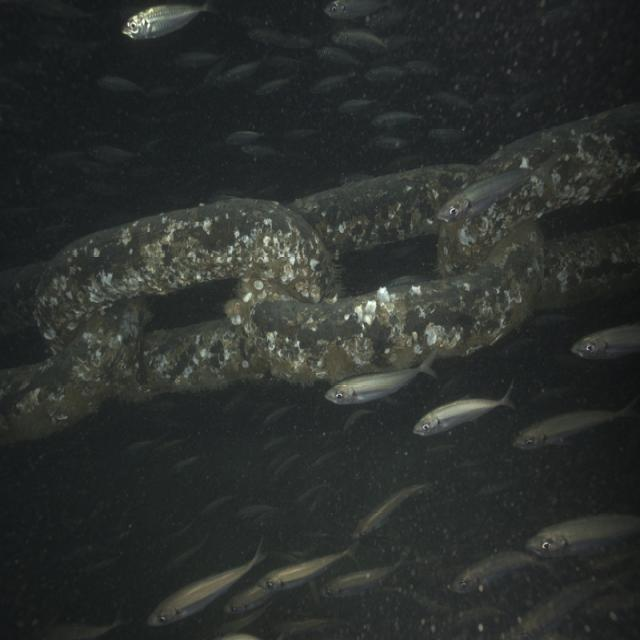ChainLink: (240, 226, 544, 382), (35, 200, 334, 349), (439, 103, 640, 276), (0, 301, 145, 442), (294, 168, 472, 252), (539, 221, 640, 303), (144, 320, 255, 388), (0, 263, 46, 334)
